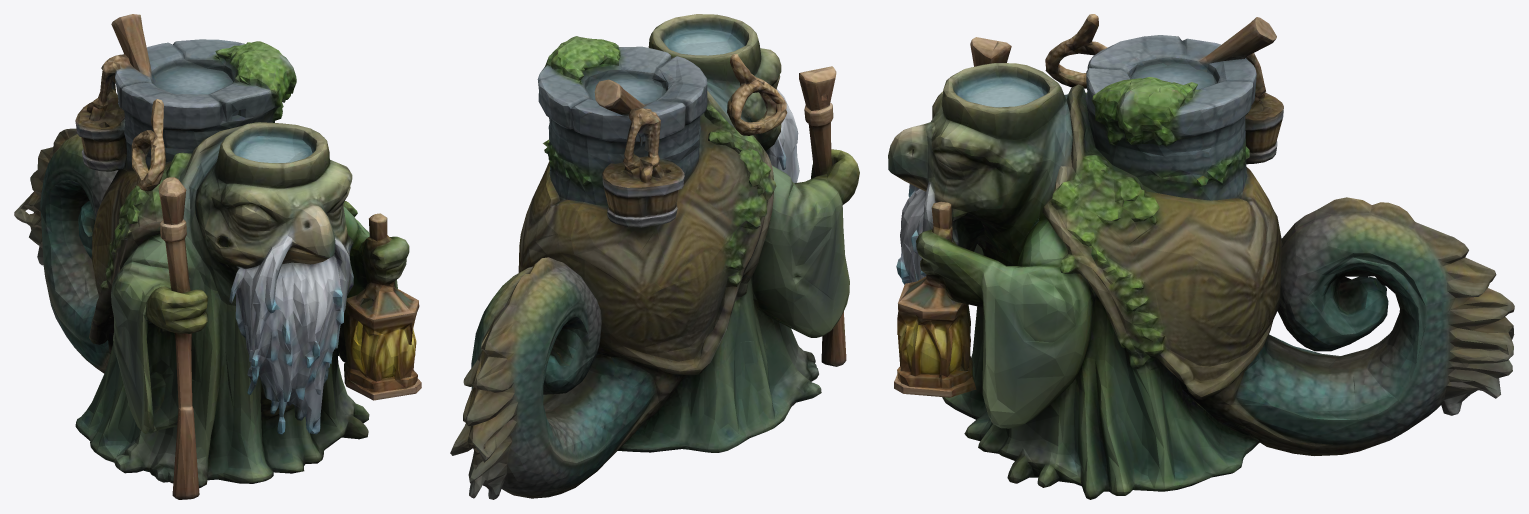
The model's file is kappadeep__wellOfAges.glb.
3 renders of one model, left to right at view 1: azimuth 30°, elevation 25°; view 2: azimuth 150°, elevation 25°; view 3: azimuth 270°, elevation 25°, orthographic. The views are drawn at different scales.
Visible parts, largest first — view 1: world; view 2: world; view 3: world.
Part boxes in pixels (x1=…): world: x1=14, y1=14, x2=421, y2=499; world: x1=450, y1=14, x2=859, y2=499; world: x1=888, y1=14, x2=1514, y2=499.
Bounding box in the file's own units: 0.5176 × 0.7346 × 1.
Materials: 1 (1 with a texture image).
